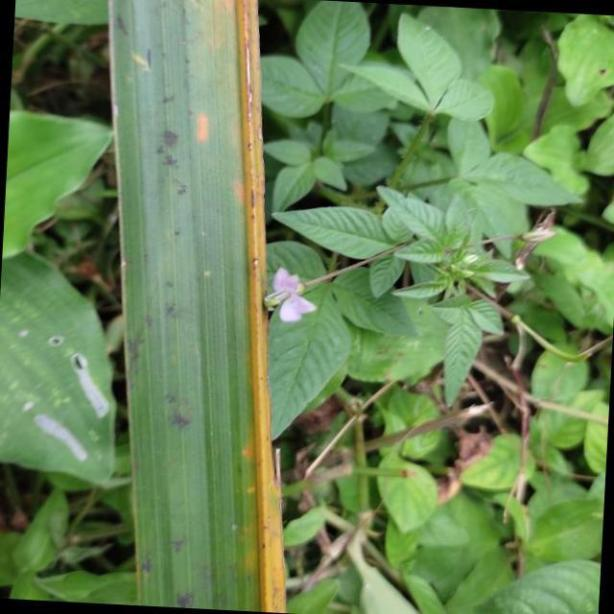Megnesium: (112, 0, 289, 614)
